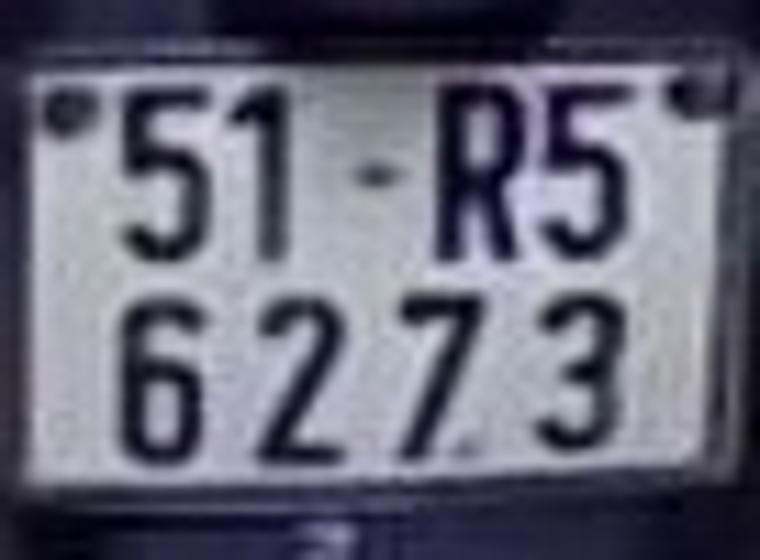-: (351, 162, 398, 185)
1: (226, 88, 293, 264)
2: (258, 298, 347, 465)
3: (530, 295, 626, 450)
5: (543, 85, 631, 259), (119, 90, 209, 259)
6: (119, 299, 202, 464)
7: (391, 298, 488, 460)
R: (433, 87, 521, 263)
